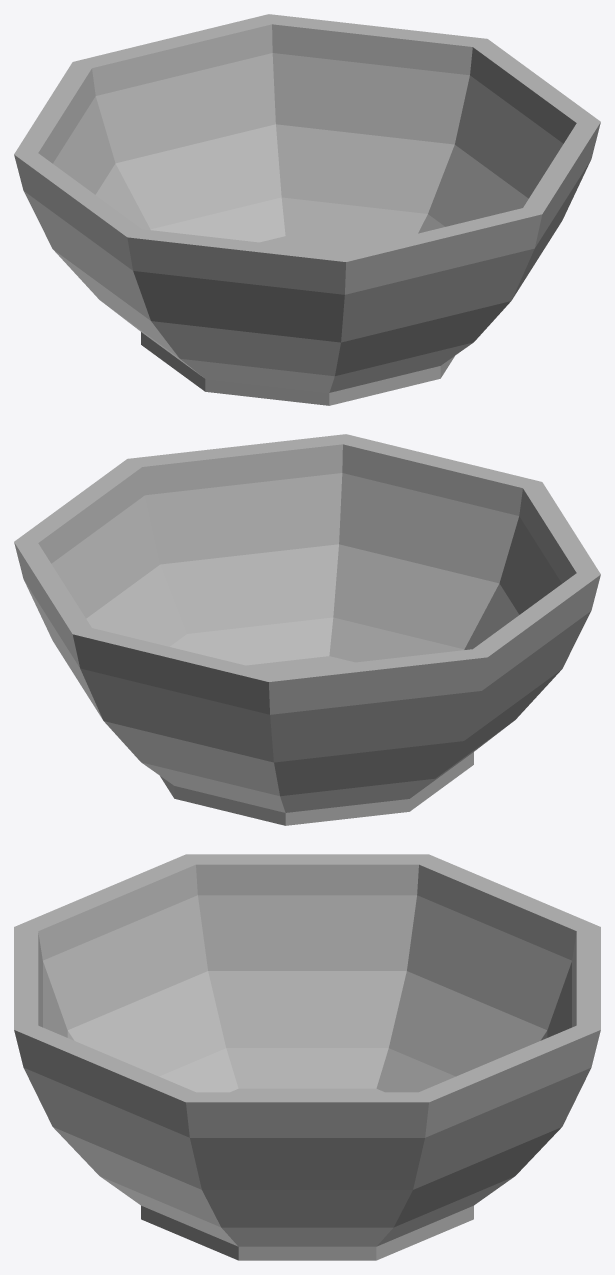
Rendered from Plate_03.fbx.
The picture shows the model from 3 angles, top to bottom: view 1: azimuth 30°, elevation 25°; view 2: azimuth 150°, elevation 25°; view 3: azimuth 270°, elevation 25°; orthographic projection. The views are drawn at different scales.
Parts seen in each view (by area): view 1: Plate_03; view 2: Plate_03; view 3: Plate_03.
Part boxes in pixels (left/top/right/bottom): Plate_03: left=14, top=14, right=600, bottom=405; Plate_03: left=14, top=434, right=600, bottom=825; Plate_03: left=14, top=854, right=600, bottom=1260.
Bounding box in the file's own units: 23.87 × 9.51 × 23.87.
